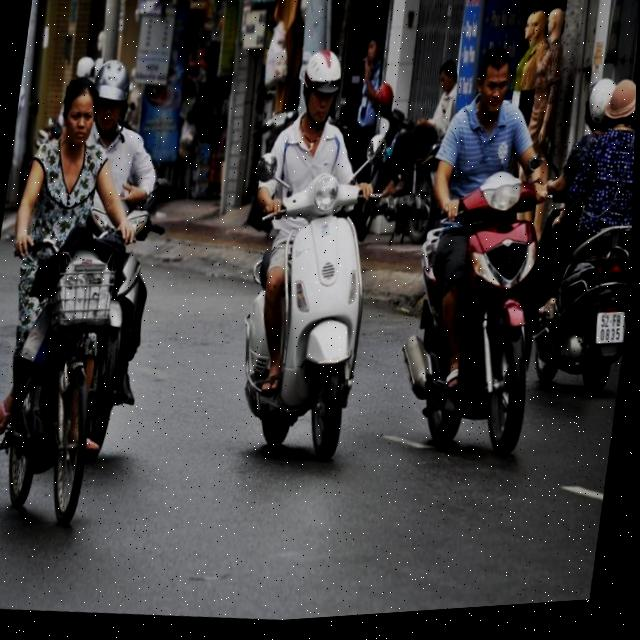motorcycle: (0, 193, 171, 544), (215, 150, 392, 484), (397, 150, 564, 468), (529, 224, 632, 406)
plate: (588, 303, 628, 348)
